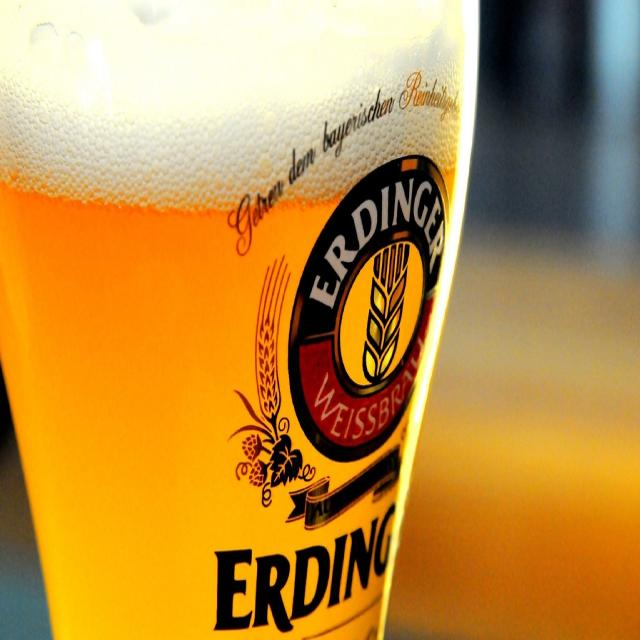erdinger: (199, 70, 468, 640)
